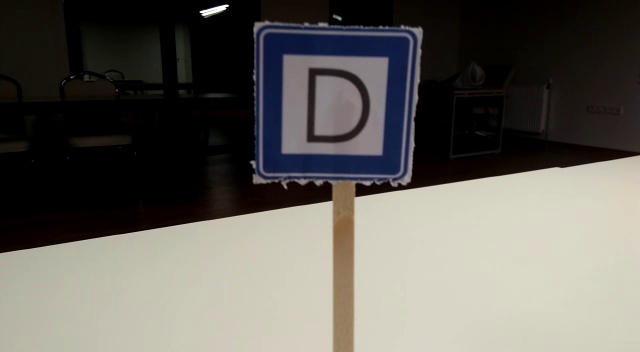durak: (252, 28, 419, 182)
